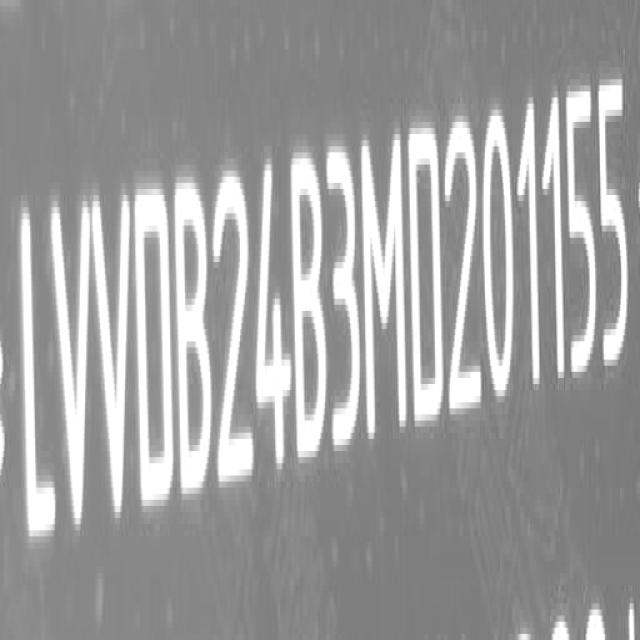0: (483, 108, 517, 418)
1: (521, 91, 546, 404), (544, 82, 567, 396)
2: (214, 169, 254, 504), (447, 109, 484, 429)
3: (331, 139, 364, 463)
4: (254, 160, 294, 492)
5: (600, 63, 633, 379), (566, 75, 598, 388)
B: (178, 175, 216, 514), (295, 141, 331, 472)
D: (134, 178, 174, 523), (409, 117, 446, 440)
L: (18, 196, 56, 564)
M: (366, 120, 412, 454)
V: (49, 192, 94, 548), (93, 184, 137, 538)
